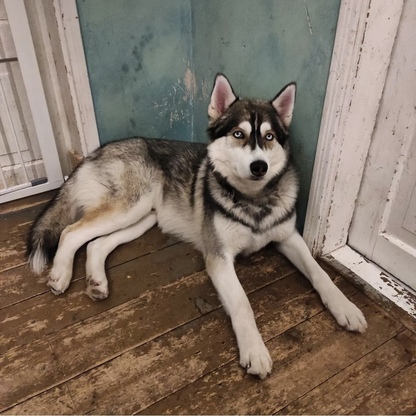husky: (22, 68, 373, 385)
